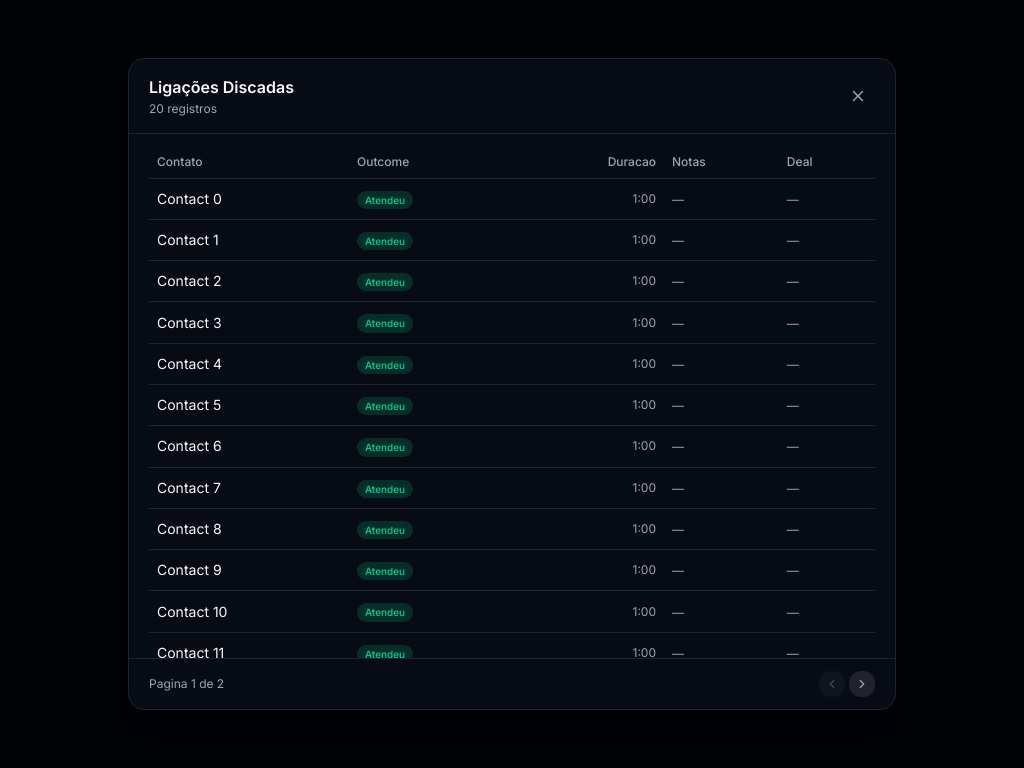
Test: MetricsDrilldownModal — pagination (CP-5.4) › navigates to next page
What coordinates should you click on to do the following:
click the button named "Proxima pagina"
I would click on:
 (862, 684)
Its box is x1=849 y1=671 x2=875 y2=697.
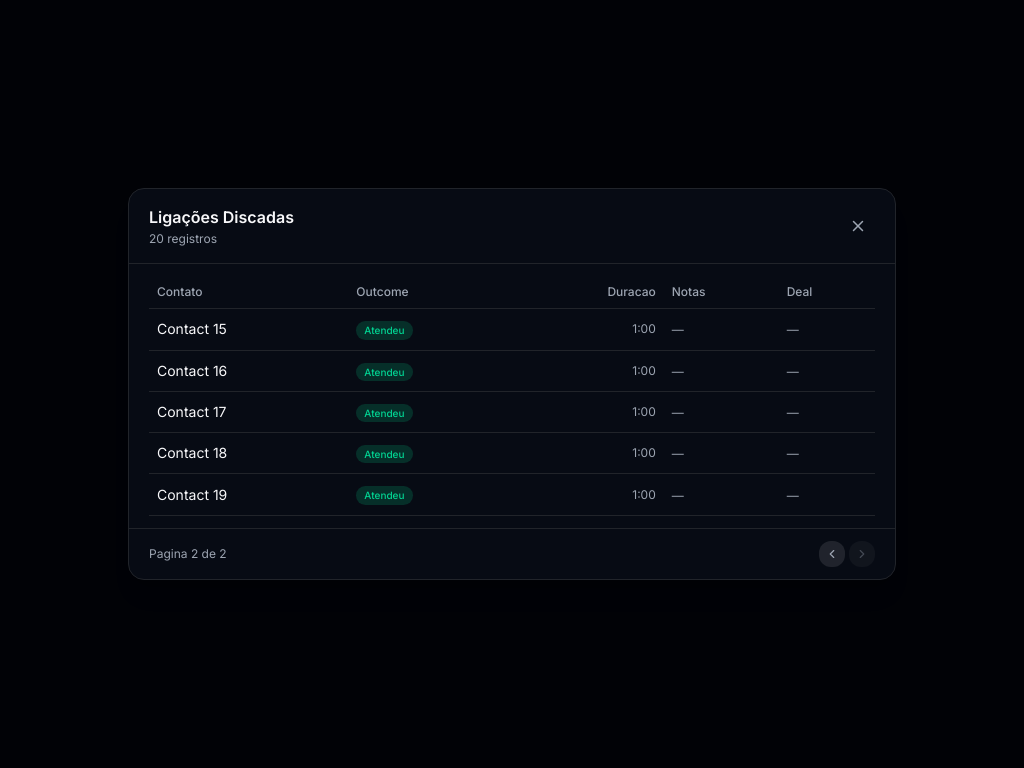
expect the text "Pagina 2 de 2" is shown: met, box x1=149 y1=546 x2=227 y2=562
